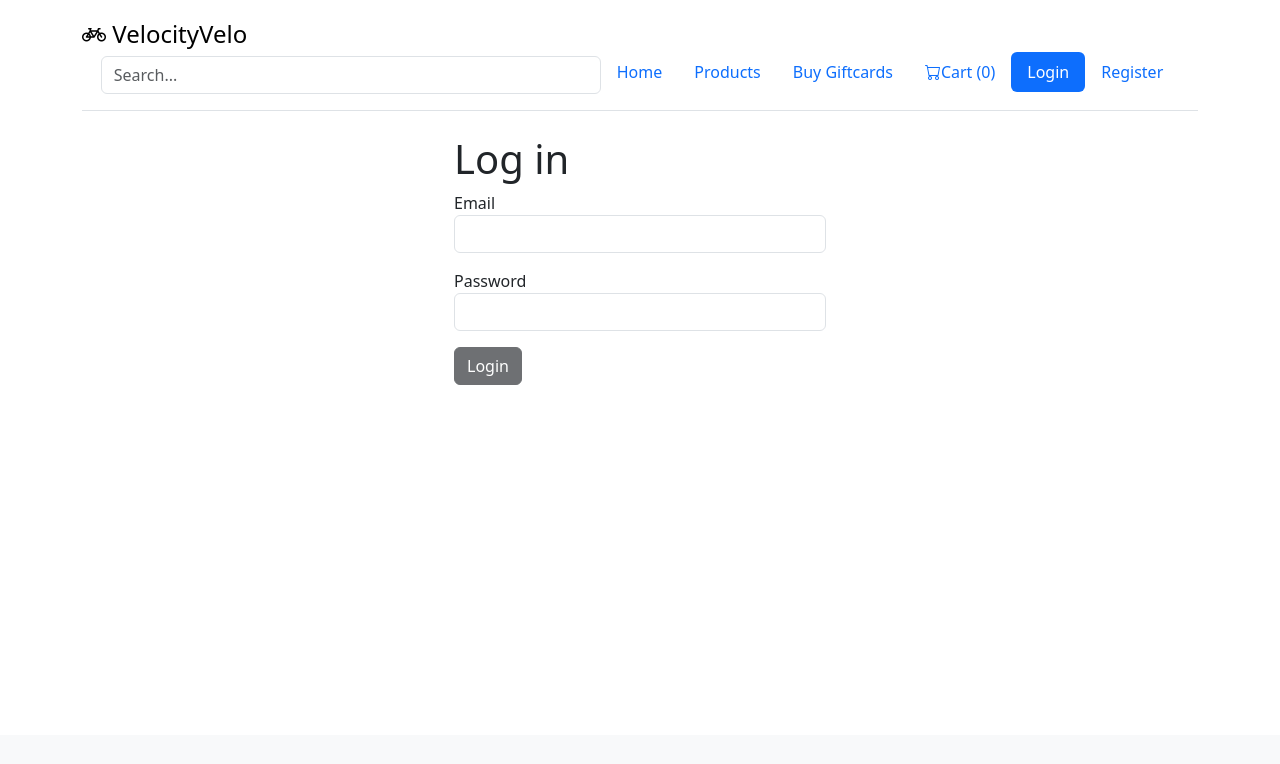
Scenario: Retour Requests Pagina tests › should filter on search input
The width and height of the screenshot is (1280, 764).
Type "bob@bobsluxuryenterprise.com" into the field with id "email".
click(640, 234); type("bob@bobsluxuryenterprise.com")  # box [454,215,826,253]
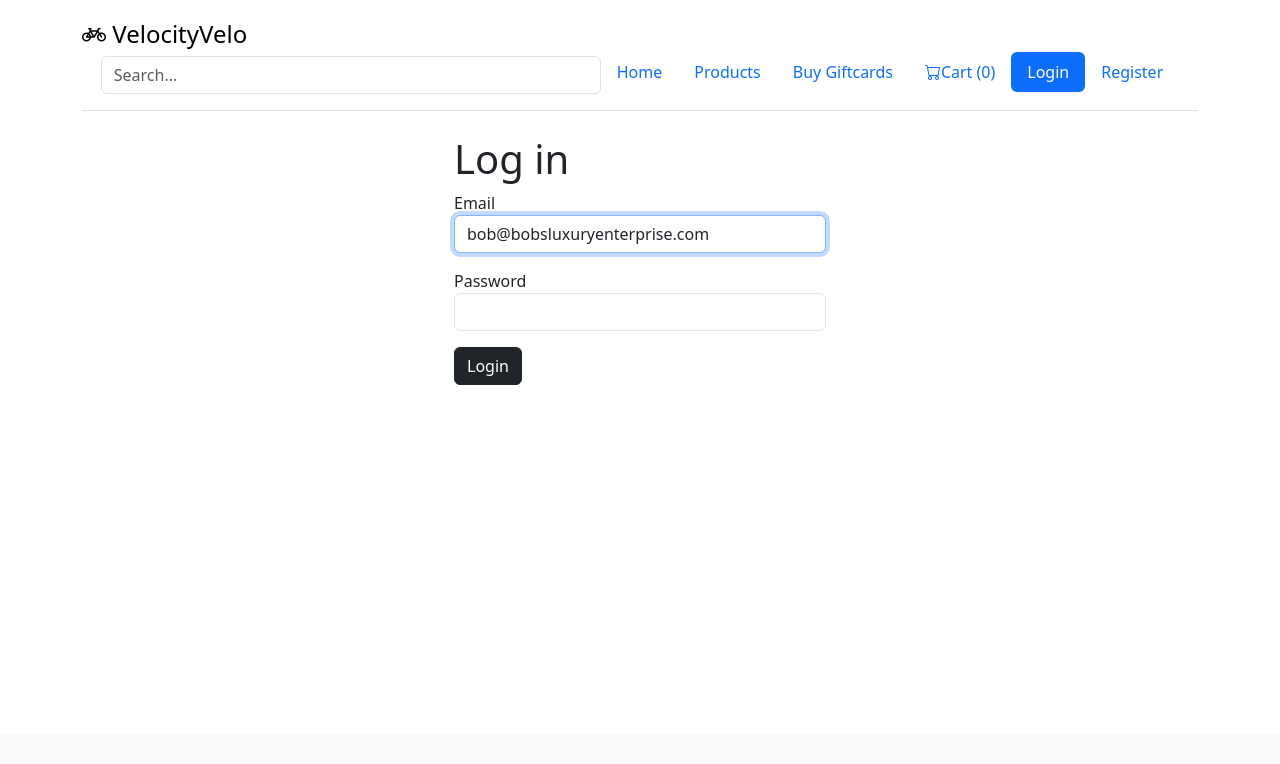
Type "MegaGeheim6789!!" into the password field labelled "Password".
click(640, 312); type("MegaGeheim6789!!")  # box [454,293,826,331]
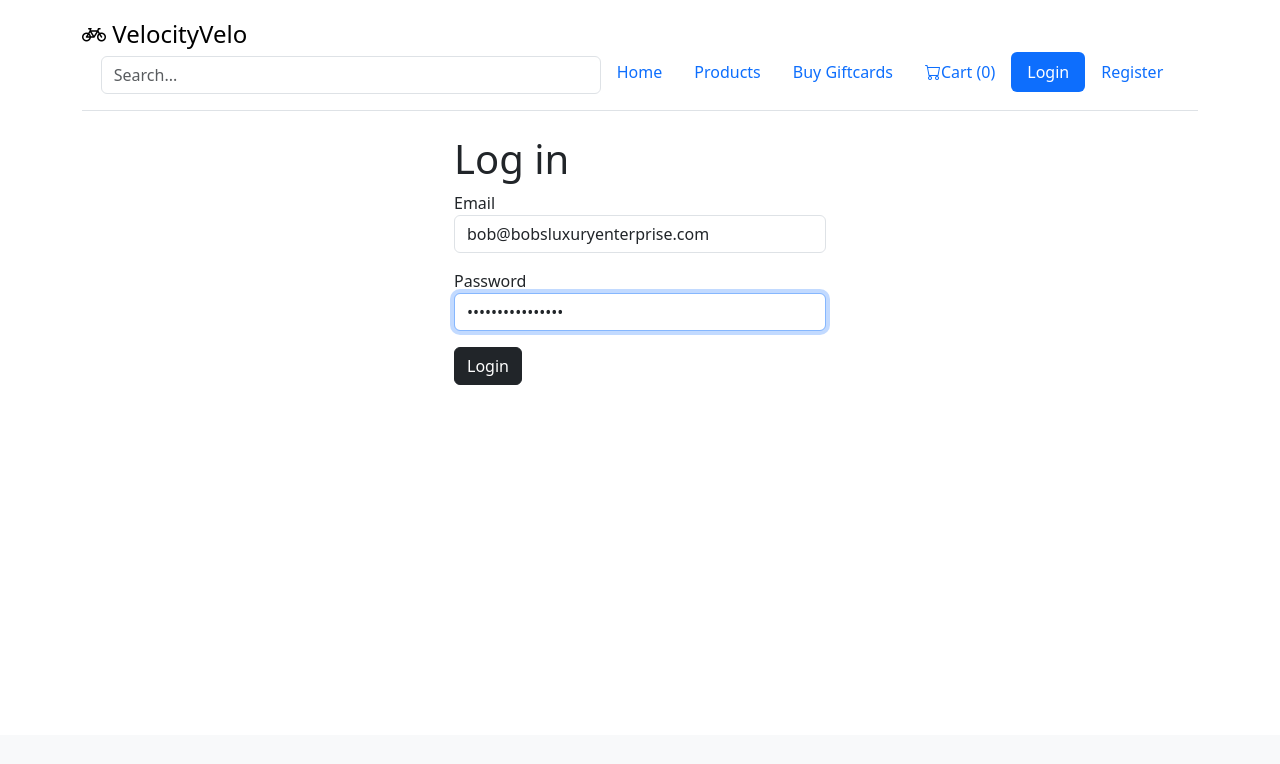
Click the button with id "login".
click(488, 366)  # box [454,347,522,385]
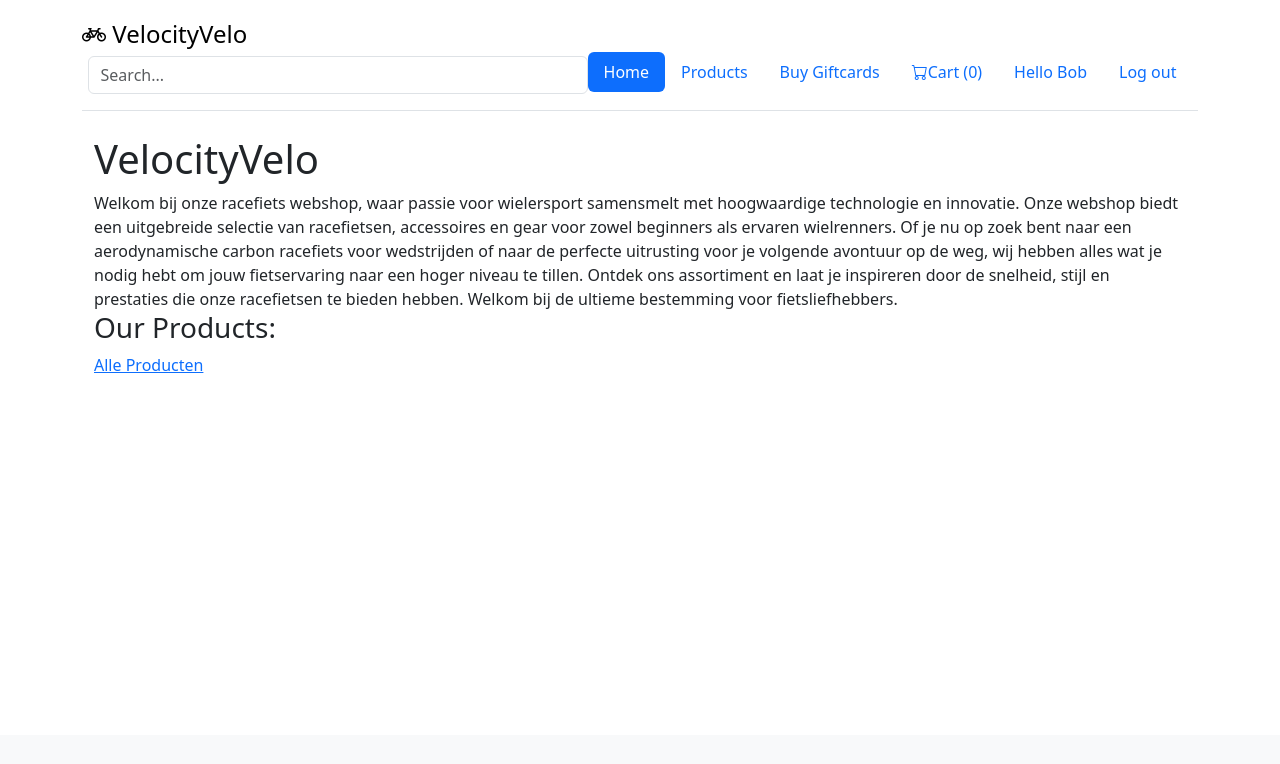
Open "admin/retours"
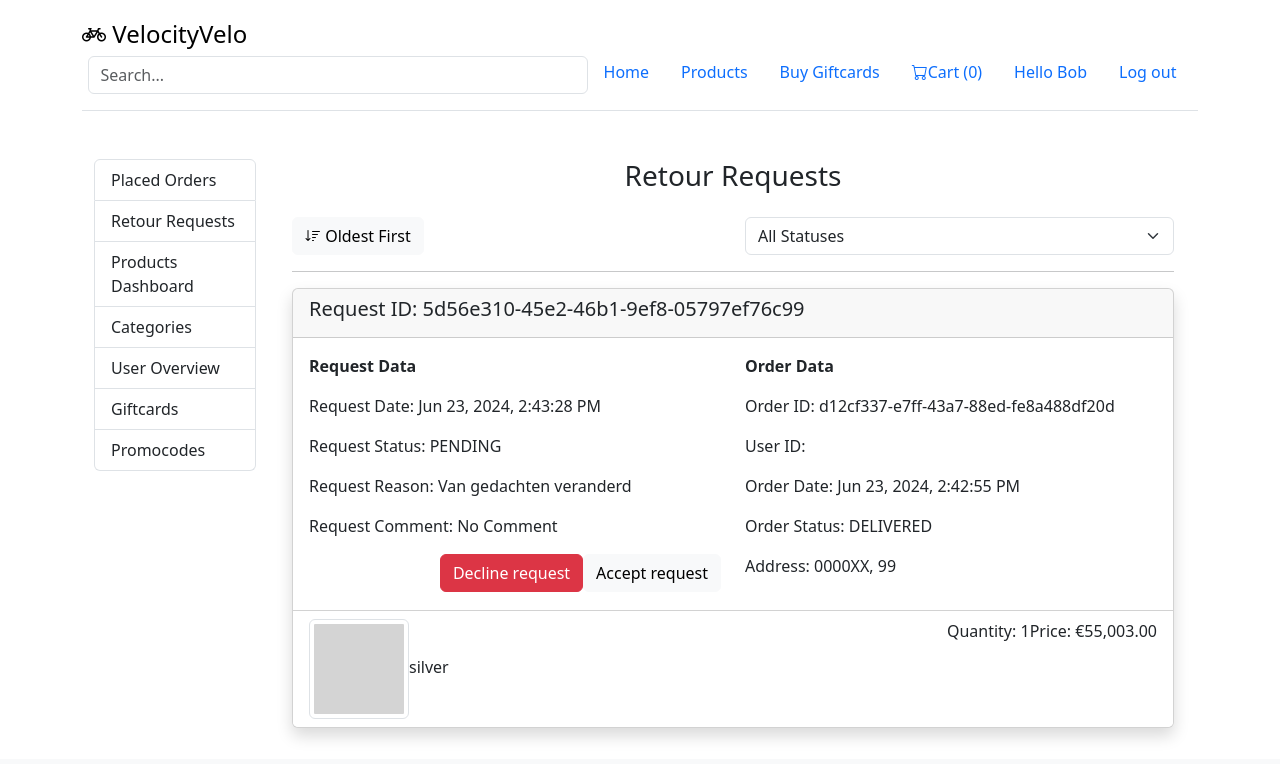
Select "1" in the dropdown at (960,236), box [745,217,1174,255]
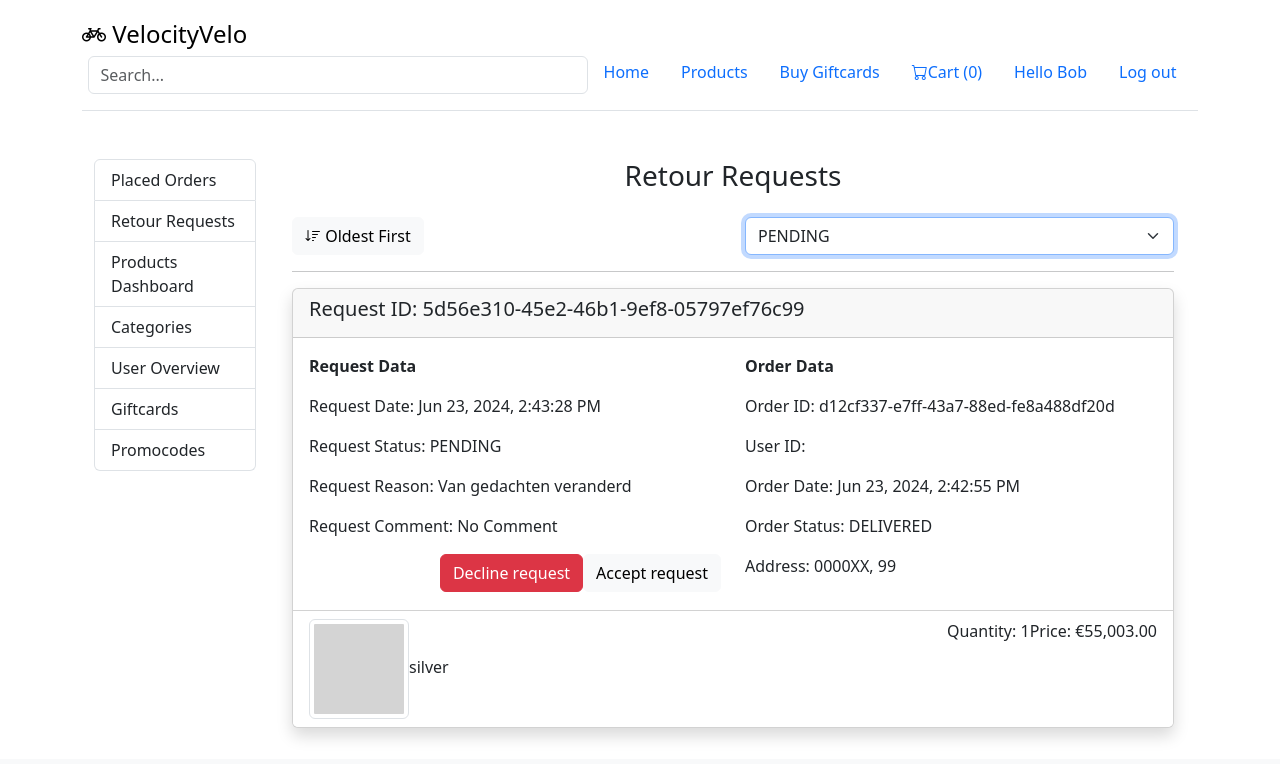
Result: the heading "5d56e310-45e2-46b1-9ef8-05797ef76c99" is shown at [309,295,805,322]
Select "2" in the dropdown at (960,236), box [745,217,1174,255]
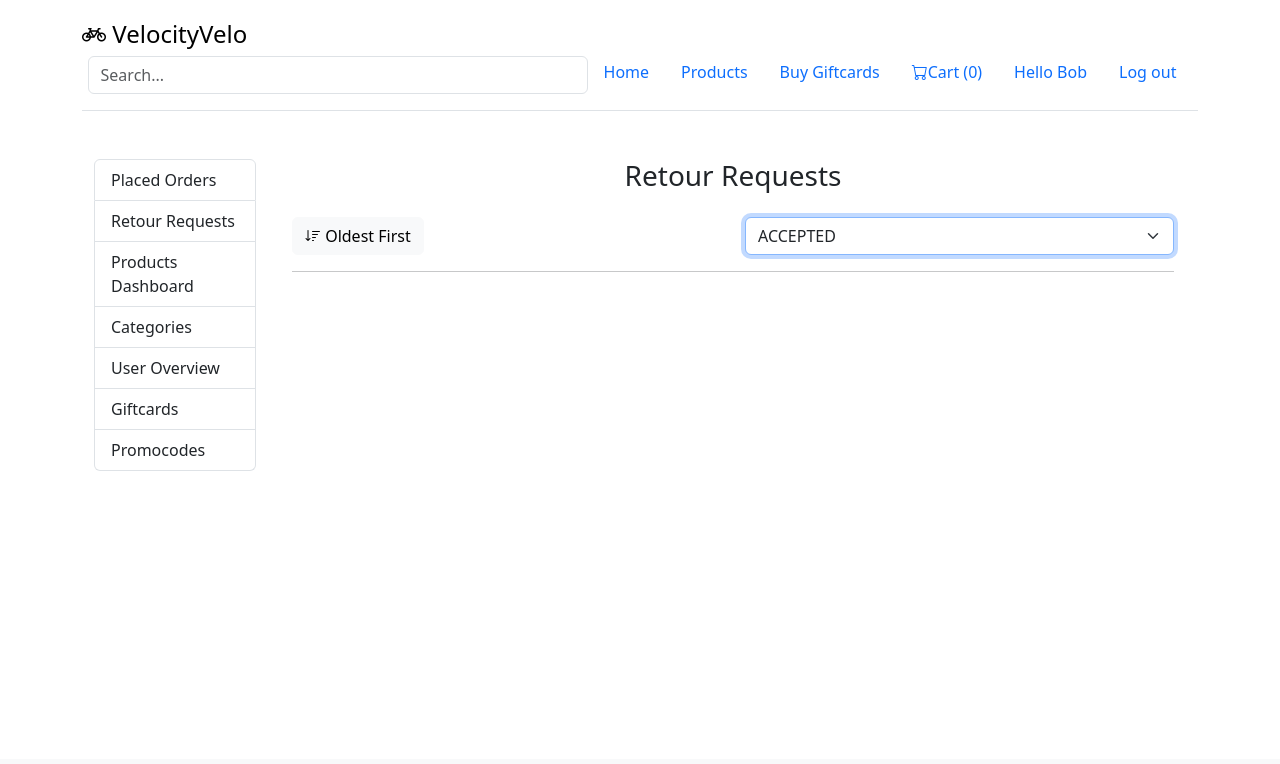
Result: the heading "5d56e310-45e2-46b1-9ef8-05797ef76c99" is gone
